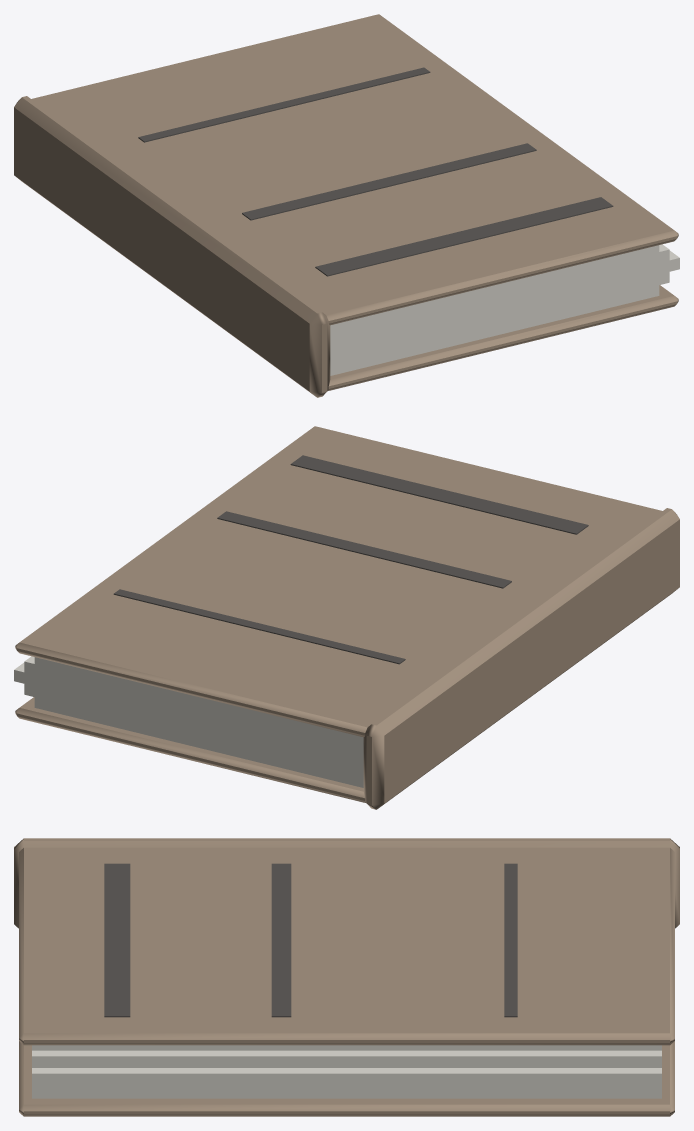
Rendered from pump_log.glb.
3 renders of one model, top to bottom at view 1: azimuth 30°, elevation 25°; view 2: azimuth 150°, elevation 25°; view 3: azimuth 270°, elevation 25°, orthographic. The views are drawn at different scales.
Visible parts, largest first — view 1: body; view 2: body; view 3: body.
Part boxes in pixels (x1,y1,x2,y2): body: (14,14,679,397); body: (14,426,679,809); body: (14,838,679,1116).
Bounding box in the file's own units: 0.144 × 0.031 × 0.203.
